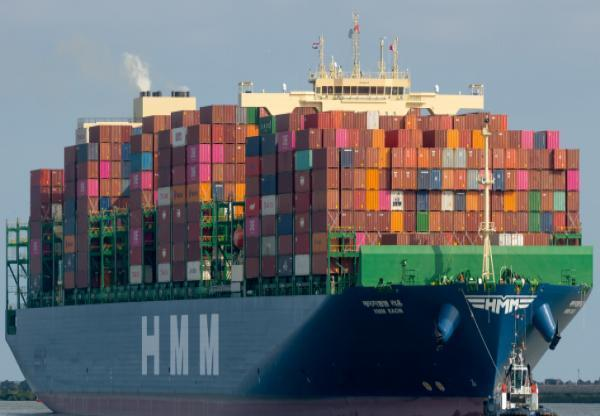Container Ship: (2, 10, 594, 415)
